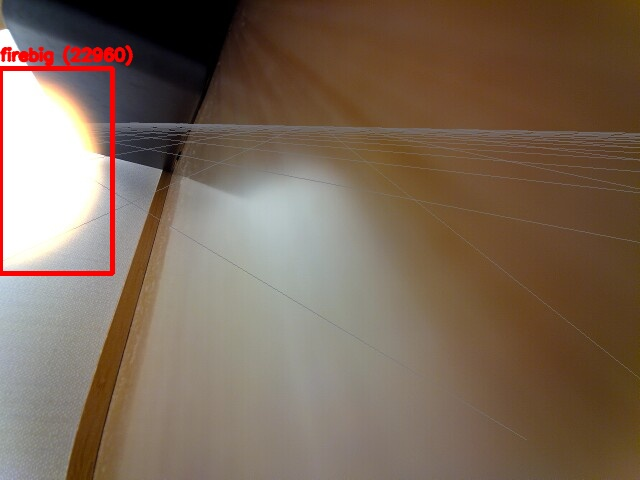firebig: (0, 68, 112, 273)
